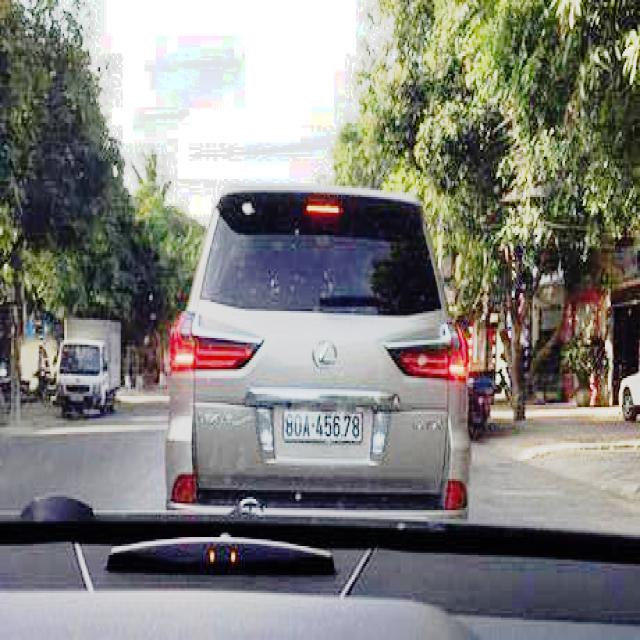license_plate: (284, 407, 364, 441)
